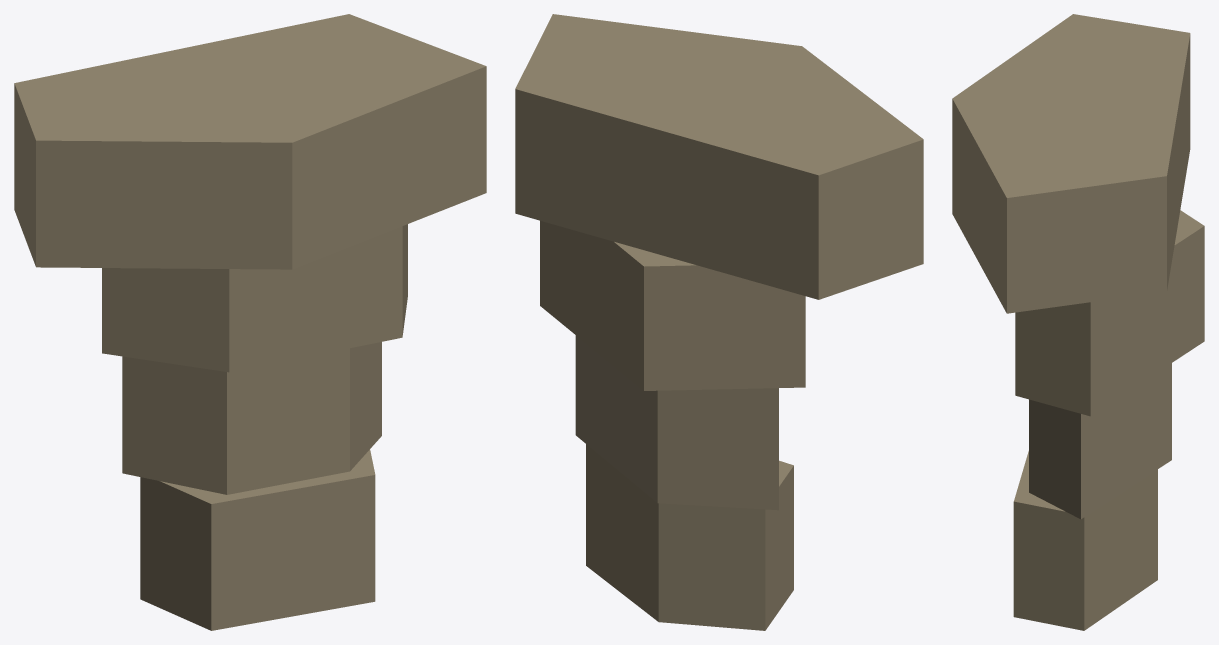
File: 地形块A3.FBX
3 views of the same model, side by side, from view 1: azimuth 30°, elevation 25°; view 2: azimuth 150°, elevation 25°; view 3: azimuth 270°, elevation 25° (orthographic). The views are drawn at different scales.
Visible parts, largest first — view 1: 地形块A3; view 2: 地形块A3; view 3: 地形块A3.
Part boxes in pixels (left/top/right/bottom): 地形块A3: left=14, top=14, right=486, bottom=630; 地形块A3: left=515, top=14, right=923, bottom=630; 地形块A3: left=952, top=14, right=1204, bottom=630.
Bounding box in the file's own units: 2.65 × 3.13 × 1.53.
Materials: 1 (1 with a texture image).
